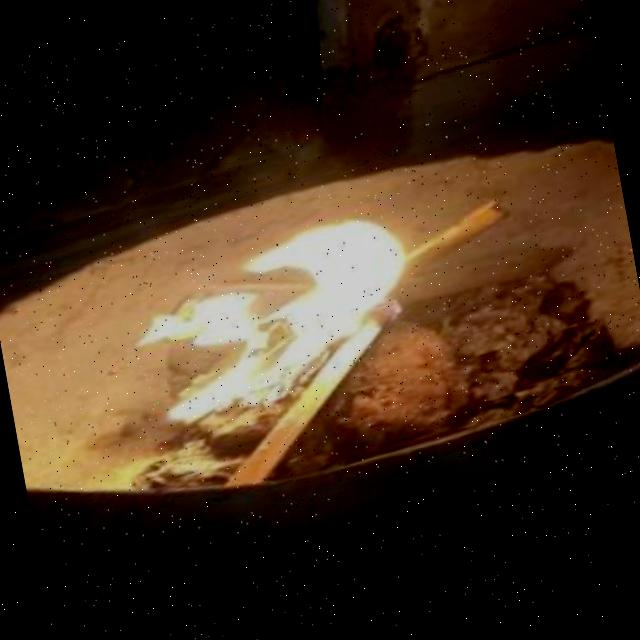fire: (106, 198, 458, 451)
